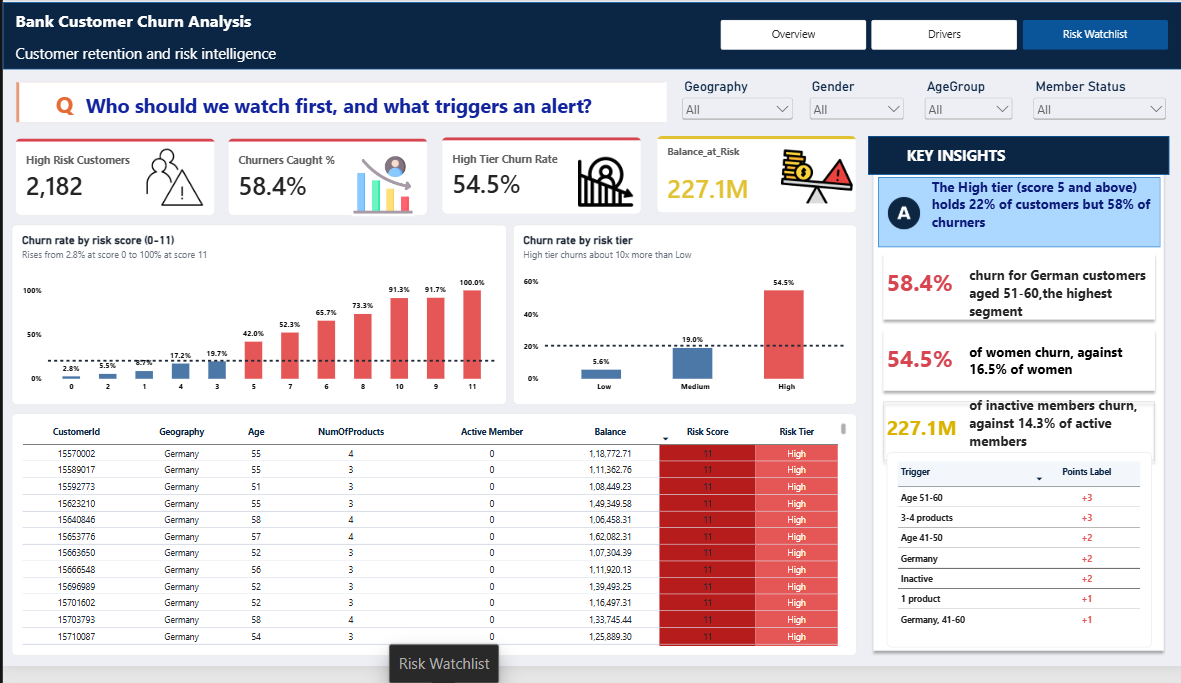

What the dashboard file says about the page in this screenshot:
{"tool":"powerbi","page":{"name":"Risk Watchlist","canvas":[1920,1080],"ordinal":2},"visuals":[{"type":"shape","box":[0,2.1,1920.4,109.1],"z":0},{"type":"textbox","box":[20.6,14.4,512.5,94.7],"z":1000},{"type":"pageNavigator","box":[1165,30.9,728.6,49.4],"z":2000},{"type":"shape","box":[20.3,125.9,1063.7,77.1],"z":3000},{"type":"textbox","box":[48.7,142.1,1035.3,60.9],"z":4000},{"type":"slicer","fields":{"Values":["bank_churn_clean.Geography"]},"box":[1098.2,125.9,188.8,77.1],"z":5000},{"type":"slicer","fields":{"Values":["bank_churn_clean.Gender"]},"box":[1305.3,125.9,162.4,77.1],"z":6000},{"type":"slicer","fields":{"Values":["bank_churn_clean.AgeGroup"]},"box":[1492.1,125.9,152.3,77.1],"z":7000},{"type":"slicer","fields":{"Values":["bank_churn_clean.Member Status"]},"box":[1668.7,125.9,225.3,77.1],"z":8000},{"type":"shape","box":[1404.8,219.2,489.2,844.5],"z":9000},{"type":"shape","box":[1404.8,219.2,489.2,62.9],"z":10000},{"type":"textbox","box":[1467.7,233.5,284.2,48.7],"z":11000},{"type":"shape","box":[1421,286.2,458.8,113.7],"z":12000},{"type":"image","box":[1435.2,304.5,56,80],"z":13000},{"type":"textbox","box":[1508.3,286.2,357.3,152.3],"z":14000},{"type":"shape","box":[1421,399.9,458.8,125.9],"z":15000},{"type":"shape","box":[1421,523.7,458.8,117.7],"z":16000},{"type":"textbox","box":[1435.2,430.4,119.8,62.9],"z":17000},{"type":"textbox","box":[1569.2,430.4,296.4,93.4],"z":18000},{"type":"textbox","box":[1435.2,554.2,134,87.3],"z":19000},{"type":"textbox","box":[369.5,257.8,30.5,142.1],"z":20000},{"type":"textbox","box":[1569.2,554.2,296.4,87.3],"z":21000},{"type":"textbox","box":[1435.2,669.9,134,62.9],"z":22000},{"type":"textbox","box":[1569.2,655.7,296.4,77.1],"z":23000},{"type":"cardVisual","fields":{"Data":["bank_churn_clean.High Risk Customers"]},"box":[20.3,223.3,324.8,125.9],"z":24000},{"type":"cardVisual","fields":{"Data":["bank_churn_clean.Churners Caught %"]},"box":[366.4,222.3,324.8,125.9],"z":25000},{"type":"cardVisual","fields":{"Data":["bank_churn_clean.High Tier Churn Rate"]},"box":[712.5,221.3,324.8,125.9],"z":26000},{"type":"cardVisual","fields":{"Data":["bank_churn_clean.Balance_at_Risk"]},"box":[1061.7,219.2,324.8,125.9],"z":27000},{"type":"image","box":[1256.6,233.5,129.9,95.4],"z":28000},{"type":"clusteredColumnChart","title":"Churn rate by risk score (0-11)","fields":{"Category":["bank_churn_clean.Risk Score"],"Y":["bank_churn_clean.Churn Rate"]},"box":[14.2,363.4,803.9,292.3],"z":29000},{"type":"clusteredColumnChart","title":"Churn rate by risk tier","fields":{"Category":["bank_churn_clean.Risk Tier"],"Y":["bank_churn_clean.Churn Rate"]},"box":[828.3,363.4,558.3,292.3],"z":30000},{"type":"tableEx","fields":{"Values":["bank_churn_clean.CustomerId","bank_churn_clean.Geography","bank_churn_clean.Age","bank_churn_clean.NumOfProducts","bank_churn_clean.IsActiveMember","bank_churn_clean.Balance","bank_churn_clean.Risk Score","bank_churn_clean.Risk Tier"]},"box":[14.2,669.9,1372.3,393.8],"z":31000},{"type":"shape","box":[907.4,641.5,458.8,113.7],"z":32000},{"type":"tableEx","fields":{"Values":["Alert Triggers.Trigger","Alert Triggers.Points Label"]},"box":[1435.2,732.8,430.4,316.7],"z":32002},{"type":"image","box":[231.4,233.5,95.4,105.6],"z":32003},{"type":"image","box":[566.4,233.5,101.5,129.9],"z":32004},{"type":"image","box":[933.8,233.5,89.3,119.8],"z":32005}]}

Visuals, with their boxes in screenshot pixels (x1, y1, x2, y2), scaled from the page's 1920x1080 canvas onto the 1181x683 screenshot:
shape: 0:1:1180:70
textbox: 13:9:328:69
pageNavigator: 717:20:1165:51
shape: 12:80:667:128
textbox: 30:90:667:128
slicer - bank_churn_clean.Geography: 676:80:792:128
slicer - bank_churn_clean.Gender: 803:80:903:128
slicer - bank_churn_clean.AgeGroup: 918:80:1011:128
slicer - bank_churn_clean.Member Status: 1026:80:1165:128
shape: 864:139:1165:673
shape: 864:139:1165:178
textbox: 903:148:1078:178
shape: 874:181:1156:253
image: 883:193:917:243
textbox: 928:181:1148:277
shape: 874:253:1156:333
shape: 874:331:1156:406
textbox: 883:272:956:312
textbox: 965:272:1148:331
textbox: 883:350:965:406
textbox: 227:163:246:253
textbox: 965:350:1148:406
textbox: 883:424:965:463
textbox: 965:415:1148:463
cardVisual - bank_churn_clean.High Risk Customers: 12:141:212:221
cardVisual - bank_churn_clean.Churners Caught %: 225:141:425:220
cardVisual - bank_churn_clean.High Tier Churn Rate: 438:140:638:220
cardVisual - bank_churn_clean.Balance_at_Risk: 653:139:853:218
image: 773:148:853:208
"Churn rate by risk score (0-11)" clusteredColumnChart: 9:230:503:415
"Churn rate by risk tier" clusteredColumnChart: 509:230:853:415
tableEx - bank_churn_clean.CustomerId x bank_churn_clean.Geography: 9:424:853:673
shape: 558:406:840:478
tableEx - Alert Triggers.Trigger x Alert Triggers.Points Label: 883:463:1148:664
image: 142:148:201:214
image: 348:148:411:230
image: 574:148:629:223
